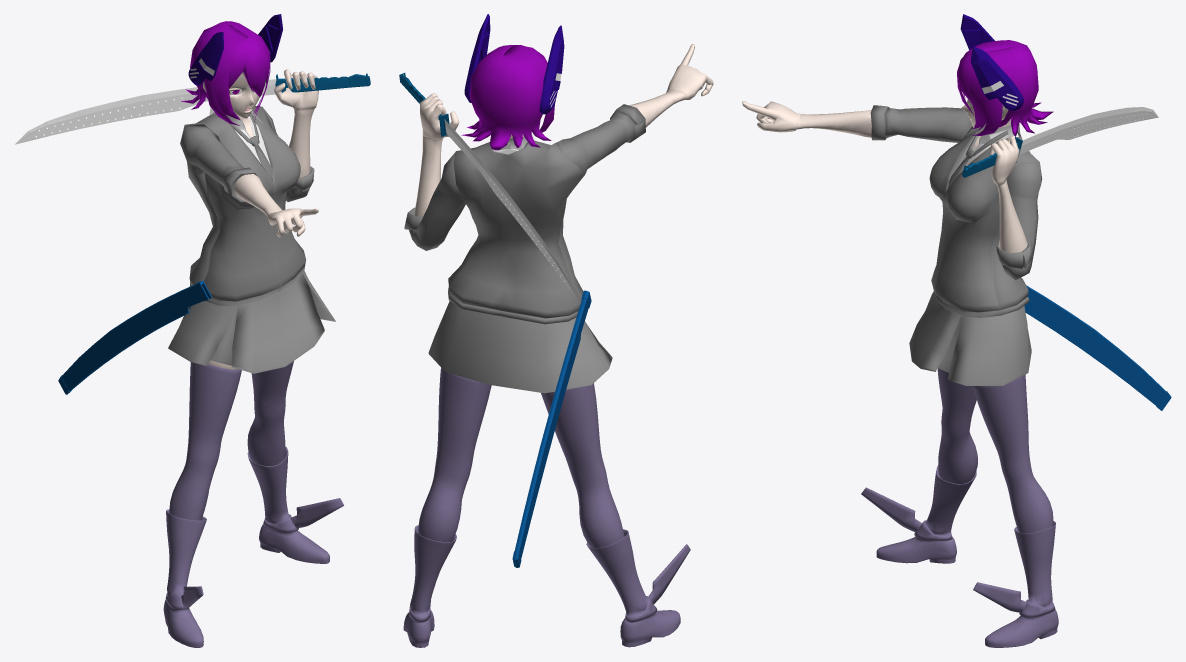
The model's file is tenryuu.gltf.
3 renders of one model, left to right at view 1: azimuth 30°, elevation 25°; view 2: azimuth 150°, elevation 25°; view 3: azimuth 270°, elevation 25°, orthographic. The views are drawn at different scales.
Parts seen in each view (by area): view 1: 3DSMesh_13_6, 3DSMesh_1_1, 3DSMesh_15_7, 3DSMesh_10_4, 3DSMesh_2_1, 3DSMesh_20_10, 3DSMesh_18_9, 3DSMesh_11_5, 3DSMesh_19_9, 3DSMesh_7_2, 3DSMesh_3_1; view 2: 3DSMesh_1_1, 3DSMesh_13_6, 3DSMesh_15_7, 3DSMesh_10_4, 3DSMesh_2_1, 3DSMesh_20_10, 3DSMesh_11_5, 3DSMesh_18_9, 3DSMesh_19_9; view 3: 3DSMesh_13_6, 3DSMesh_1_1, 3DSMesh_15_7, 3DSMesh_2_1, 3DSMesh_10_4, 3DSMesh_20_10, 3DSMesh_11_5, 3DSMesh_18_9, 3DSMesh_3_1.
Boxes of the visible parts, x1,y1,x2,y2 form: 3DSMesh_13_6: (163,361,343,647); 3DSMesh_1_1: (180,106,314,306); 3DSMesh_15_7: (168,271,335,373); 3DSMesh_10_4: (181,21,270,125); 3DSMesh_2_1: (234,69,318,237); 3DSMesh_20_10: (58,281,212,394); 3DSMesh_18_9: (15,79,276,144); 3DSMesh_11_5: (188,14,282,85); 3DSMesh_19_9: (275,73,370,92); 3DSMesh_7_2: (203,73,259,137); 3DSMesh_3_1: (209,107,270,164); 3DSMesh_1_1: (404,104,645,324); 3DSMesh_13_6: (403,367,690,647); 3DSMesh_15_7: (428,301,612,393); 3DSMesh_10_4: (461,45,554,150); 3DSMesh_2_1: (414,44,713,216); 3DSMesh_20_10: (512,290,591,567); 3DSMesh_11_5: (464,14,564,114); 3DSMesh_18_9: (444,119,575,296); 3DSMesh_19_9: (399,72,449,136); 3DSMesh_13_6: (861,368,1058,647); 3DSMesh_1_1: (870,105,1042,317); 3DSMesh_15_7: (909,291,1031,385); 3DSMesh_2_1: (742,101,1027,253); 3DSMesh_10_4: (957,40,1053,136); 3DSMesh_20_10: (1024,285,1171,410); 3DSMesh_11_5: (960,14,1023,110); 3DSMesh_18_9: (1019,107,1158,154); 3DSMesh_3_1: (953,124,1020,173).
Bounding box in the file's own units: 0.6409 × 1.34 × 0.905.
